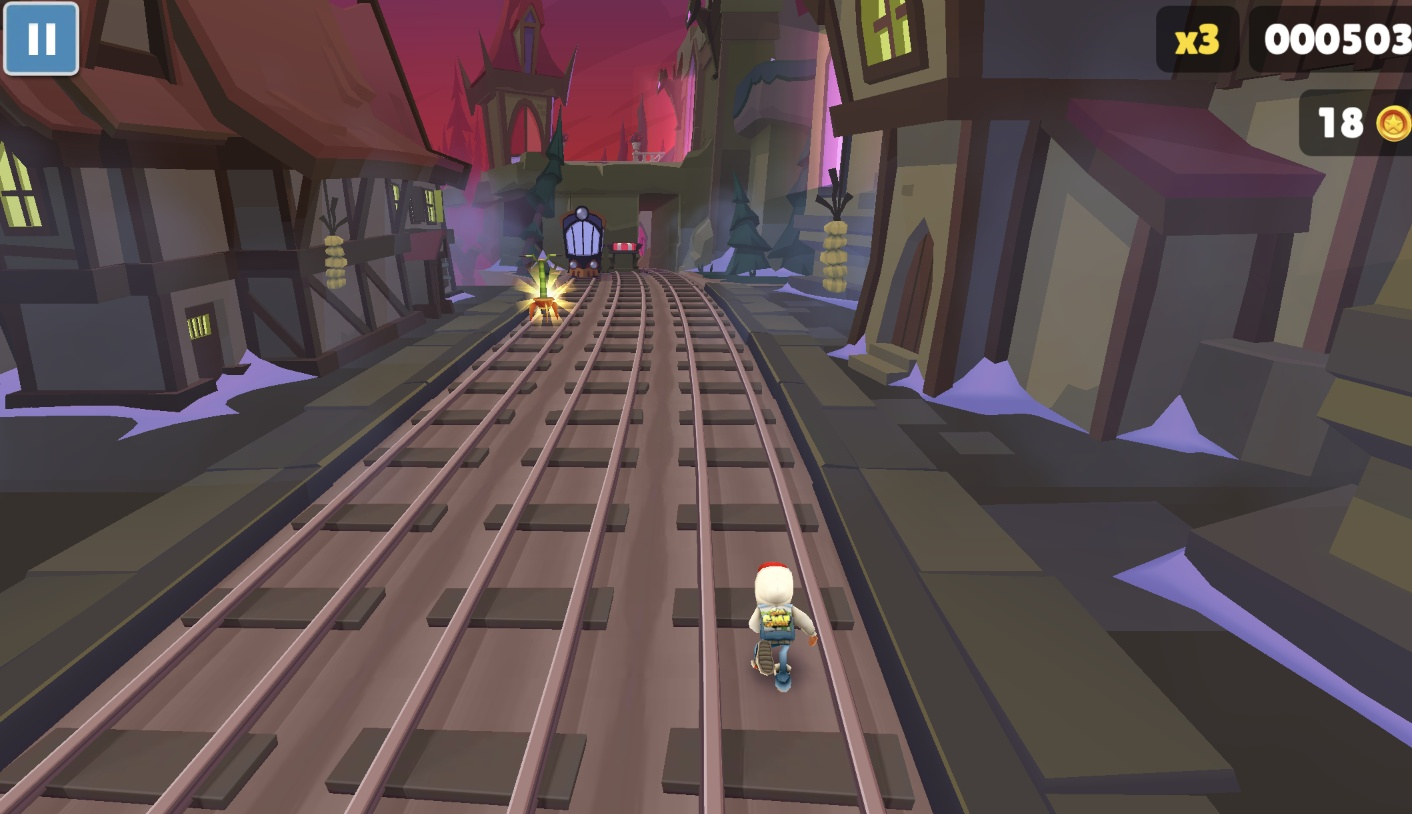ground_barrier: (603, 242, 642, 276)
train: (557, 206, 606, 284)
